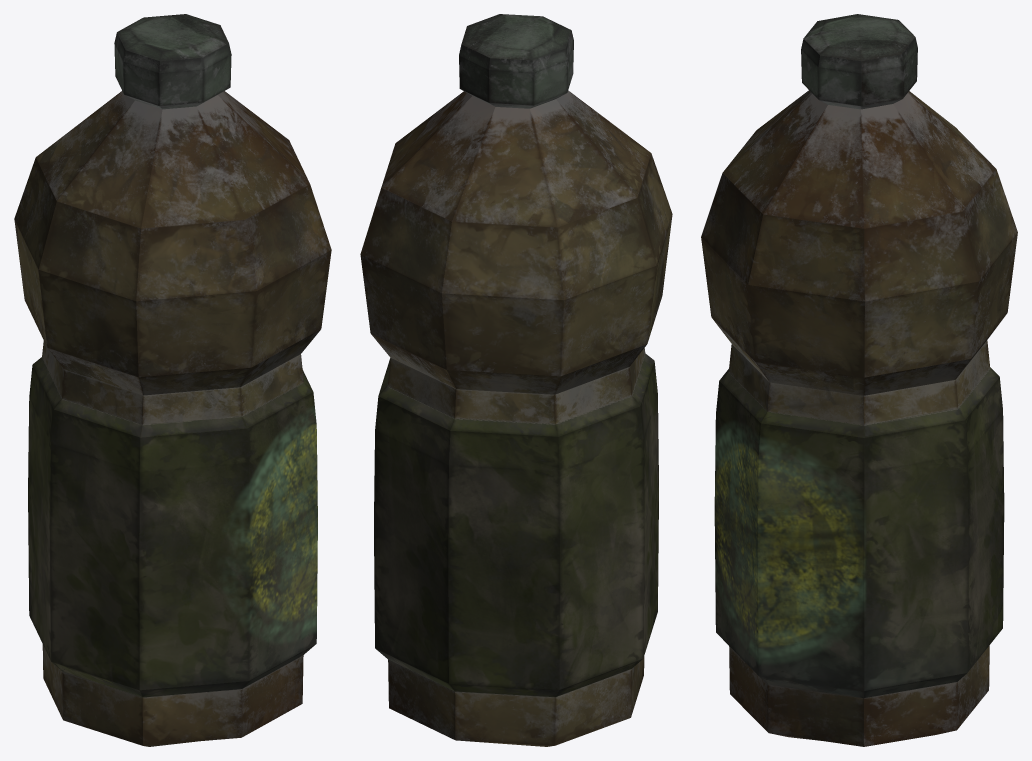
File: Bottle_Medium_2_Brown.fbx
The picture shows the model from 3 angles, left to right: view 1: azimuth 30°, elevation 25°; view 2: azimuth 150°, elevation 25°; view 3: azimuth 270°, elevation 25°; orthographic projection.
Visible parts, largest first — view 1: Bottle_Medium_2_Brown_2; view 2: Bottle_Medium_2_Brown_2; view 3: Bottle_Medium_2_Brown_2.
Boxes of the visible parts, x1,y1,x2,y2 form: Bottle_Medium_2_Brown_2: [14, 14, 331, 746]; Bottle_Medium_2_Brown_2: [360, 14, 672, 746]; Bottle_Medium_2_Brown_2: [701, 14, 1017, 746].
Bounding box in the file's own units: 18.58 × 44.11 × 18.58.
